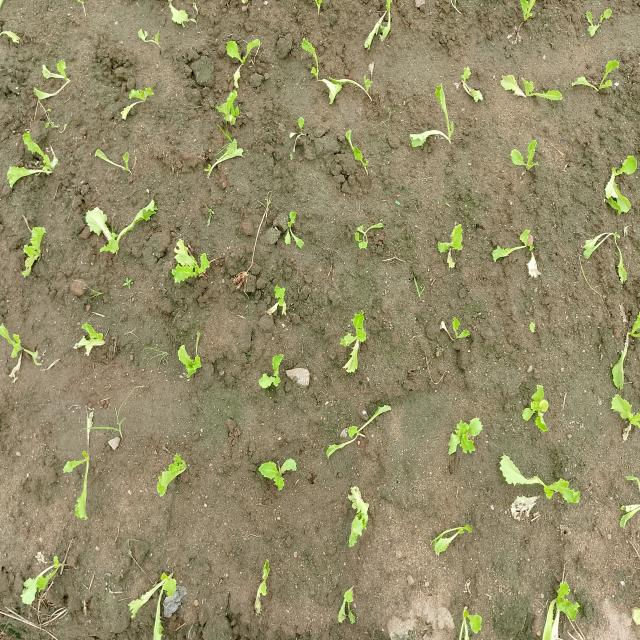Lettuce: (496, 453, 589, 516), (0, 131, 77, 202), (126, 556, 181, 640), (10, 547, 76, 616), (406, 78, 460, 162), (76, 205, 150, 265), (328, 305, 384, 383), (56, 432, 98, 528), (492, 69, 562, 126), (295, 40, 346, 113), (330, 479, 378, 554), (576, 226, 629, 293), (203, 30, 267, 85), (530, 574, 583, 639), (0, 312, 48, 383), (519, 378, 574, 438), (495, 125, 550, 185), (601, 305, 640, 388), (570, 48, 622, 107), (152, 447, 206, 501), (597, 138, 636, 212), (204, 77, 256, 131), (20, 52, 71, 107), (166, 240, 218, 290), (485, 222, 536, 272), (133, 0, 200, 38), (248, 452, 306, 494), (174, 318, 206, 393), (246, 352, 286, 411), (355, 0, 407, 45), (14, 221, 54, 278), (63, 320, 107, 371), (271, 204, 310, 261), (110, 75, 162, 117), (324, 584, 369, 632), (444, 414, 488, 462), (426, 516, 476, 558), (260, 273, 296, 331), (432, 220, 478, 263), (344, 208, 386, 255), (502, 0, 553, 36), (603, 393, 640, 440), (611, 474, 640, 532), (222, 0, 264, 19), (631, 553, 640, 636), (61, 0, 95, 18), (279, 0, 344, 8)
